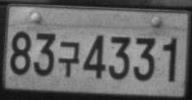1: (159, 37, 184, 82)
3: (132, 37, 157, 81), (32, 32, 56, 76), (108, 36, 132, 80)
4: (82, 34, 106, 80)
8: (9, 30, 32, 75)
구: (57, 40, 79, 77)
